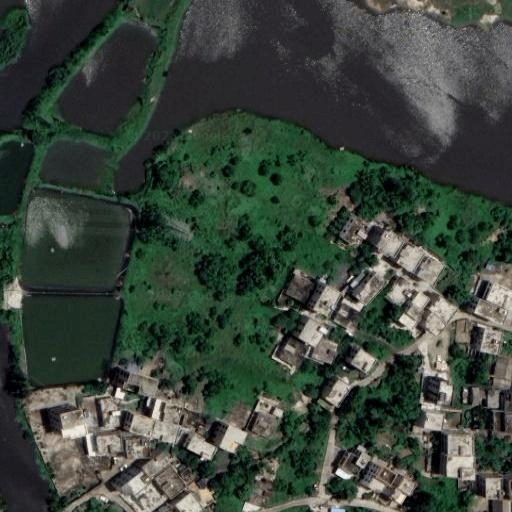building: (122, 412, 173, 441), (182, 470, 216, 506), (144, 460, 177, 494), (469, 295, 504, 325), (305, 281, 336, 314), (285, 272, 317, 303), (276, 334, 306, 367), (124, 472, 155, 503), (204, 440, 233, 473), (335, 212, 365, 243), (480, 282, 512, 311), (389, 240, 419, 270), (367, 224, 396, 255), (337, 445, 366, 476), (353, 269, 382, 299), (160, 481, 190, 510), (408, 252, 437, 281), (110, 368, 143, 393), (381, 277, 409, 306), (288, 314, 316, 343), (51, 405, 79, 434), (111, 465, 141, 492), (419, 310, 448, 337), (428, 296, 457, 323), (132, 448, 160, 474), (361, 461, 387, 488), (213, 417, 239, 444), (441, 450, 469, 475), (303, 331, 328, 358), (99, 396, 119, 429), (318, 373, 342, 400), (252, 412, 277, 437), (344, 343, 369, 367), (1, 276, 18, 310), (183, 429, 207, 452), (441, 430, 466, 451), (141, 494, 170, 512), (474, 327, 493, 354), (125, 439, 149, 459), (163, 402, 183, 426), (333, 312, 356, 332), (429, 376, 447, 401), (341, 293, 363, 313), (179, 406, 199, 428), (493, 356, 512, 379), (95, 431, 118, 450), (477, 473, 495, 496), (151, 399, 168, 422), (395, 475, 415, 494), (419, 408, 438, 427), (494, 475, 512, 495), (394, 307, 412, 324), (330, 464, 349, 480), (350, 271, 366, 288), (488, 390, 501, 410), (408, 289, 424, 305), (389, 487, 405, 503), (310, 390, 327, 405), (490, 500, 509, 512), (492, 376, 512, 387), (495, 410, 505, 432), (404, 301, 418, 316), (88, 433, 96, 455), (243, 502, 260, 512), (471, 389, 481, 405), (338, 304, 351, 316), (504, 394, 512, 412), (505, 412, 512, 432), (76, 413, 87, 425), (115, 386, 128, 396), (463, 386, 471, 402), (127, 363, 137, 374), (273, 408, 284, 417), (496, 432, 512, 438), (353, 443, 363, 451), (486, 263, 496, 270), (481, 389, 488, 399), (436, 362, 447, 368), (318, 278, 327, 285), (263, 491, 273, 497), (74, 406, 80, 415), (412, 426, 419, 433), (330, 509, 345, 512), (501, 396, 504, 410)
